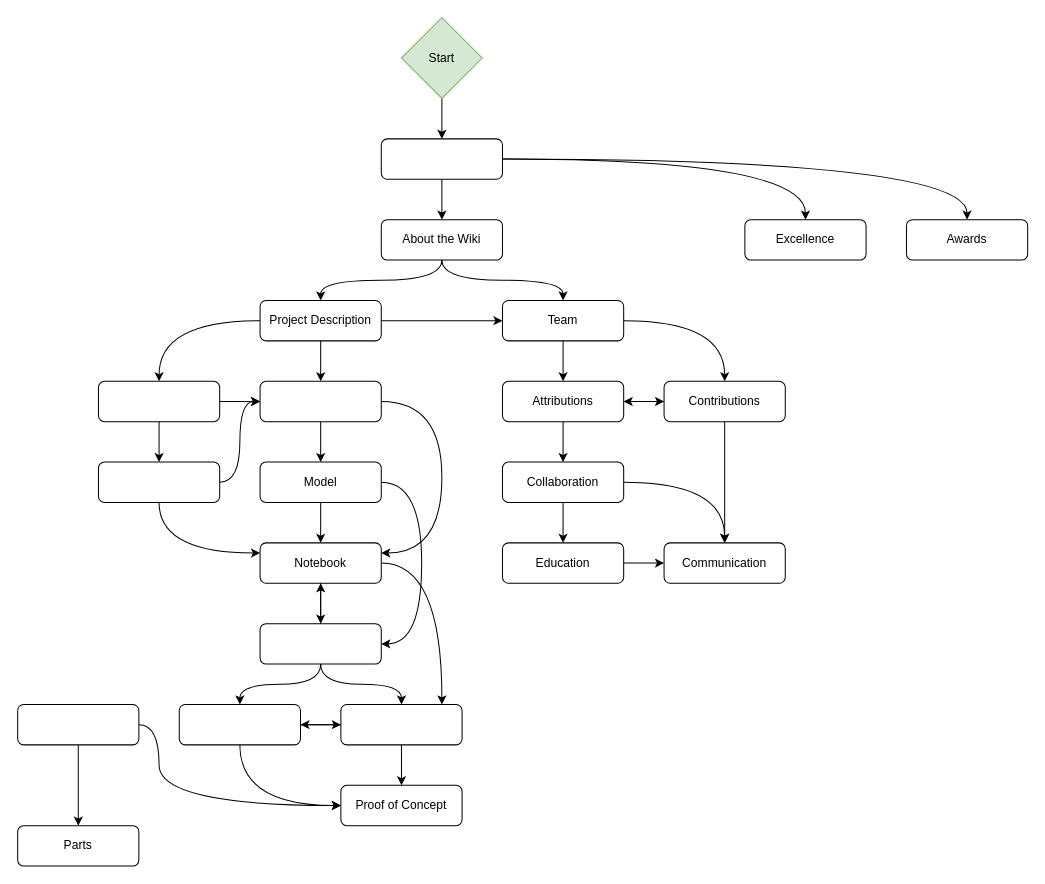
Some shapes in this 1045 by 884 pixel diagram are drawn without their labels. The shapes that lost their labels are listed below. From the top down, each one's centre as x and y in pixels, then its label:
the point at 441,158: Home
the point at 158,401: Safety
the point at 320,401: Design
the point at 158,481: Human Practices
the point at 320,643: Results
the point at 78,724: Engineering
the point at 239,724: Plant Synthetic Biology
the point at 401,724: Implementation
